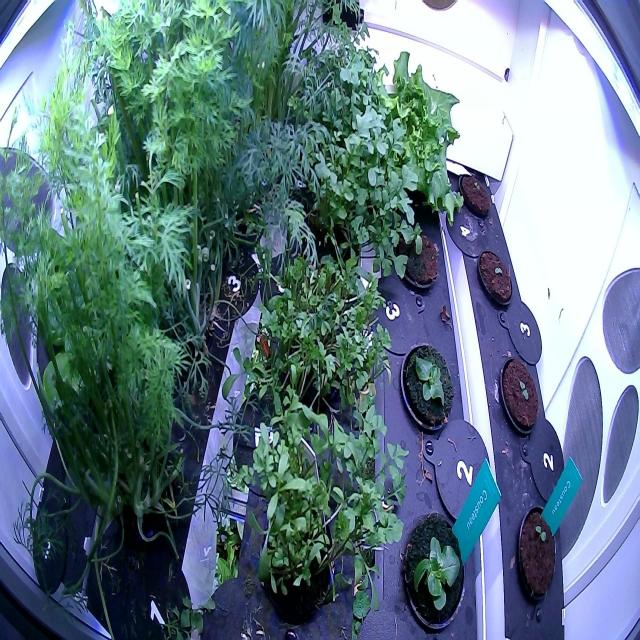germination: (514, 493, 559, 612), (391, 214, 443, 303), (496, 349, 541, 441), (475, 244, 515, 312), (456, 166, 493, 224)
